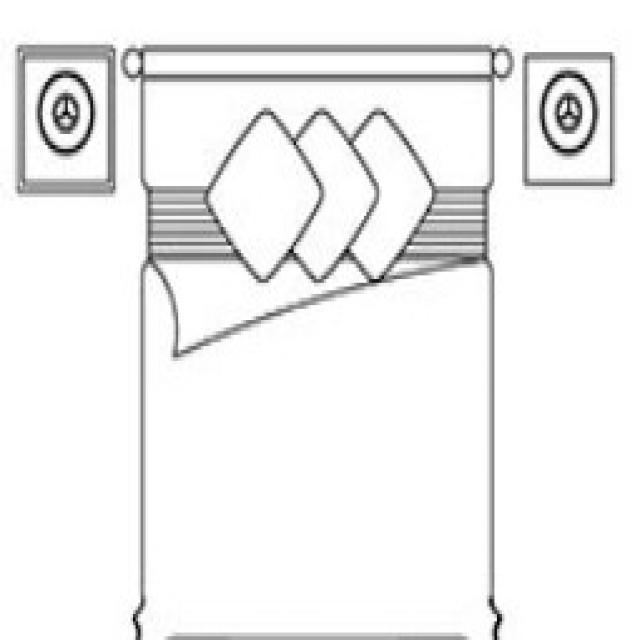bed: (15, 41, 612, 636)
